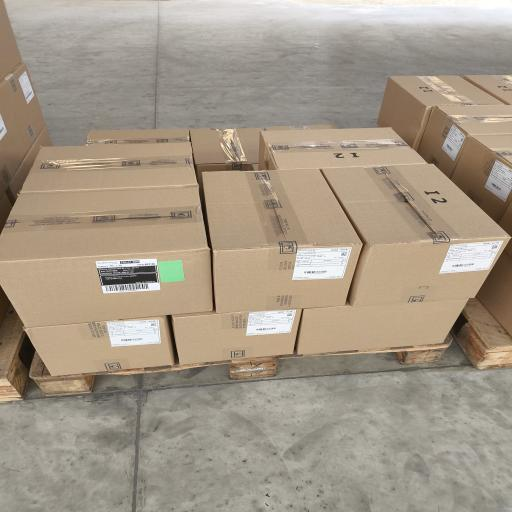pallet: (31, 335, 452, 395), (455, 299, 511, 369), (30, 353, 94, 396), (0, 305, 28, 401)
